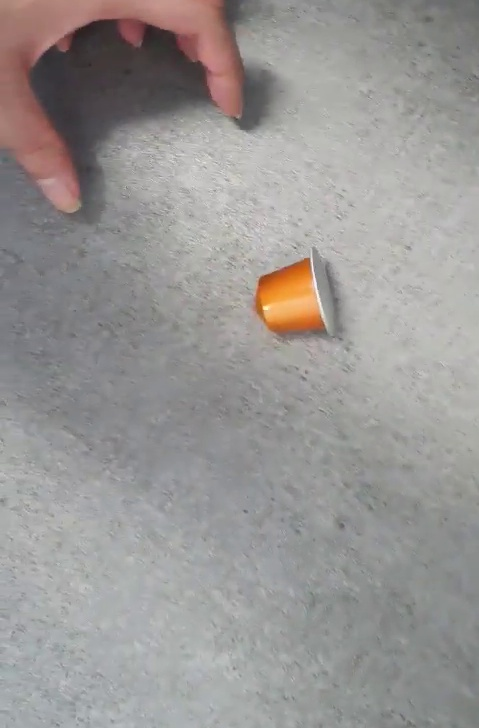capsule_5: (257, 243, 340, 342)
